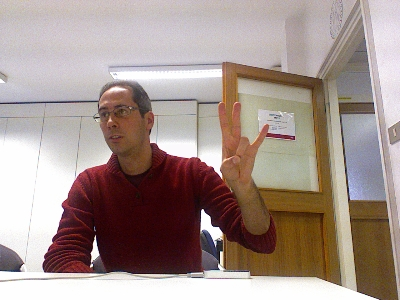观音: (215, 101, 269, 183)
